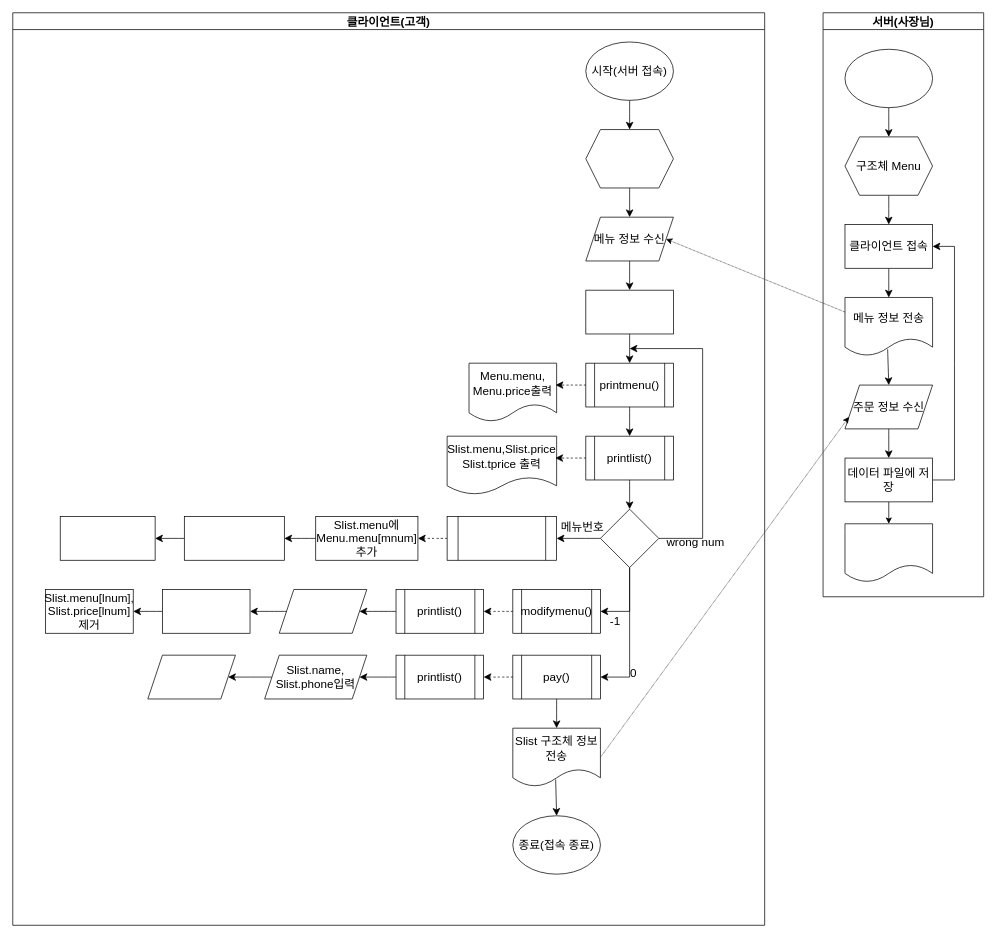
The diagram is 996 pixels wide and 938 high, and some of its shapes have lost their labels. Here are the shapes that lost their labels. From the top down, the centre of each, then its label:
At [888,78]: "시작(서버 오픈)".
At [629,158]: "구조체 Menu, Slist".
At [629,311]: "Menu에 저장".
At [107,538]: "Slist.tprice += Menu.price[mnum]".
At [234,538]: "Slist.price에 Menu.price[mnum]추가".
At [501,538]: "addmenu(mnum)".
At [629,538]: "mnum".
At [888,552]: "화면에 영수증 출력".
At [206,611]: "Slist.tprice -= Slist.price[lnum]".
At [322,611]: "lnum 입력".
At [191,676]: "Slist.pay입력".
